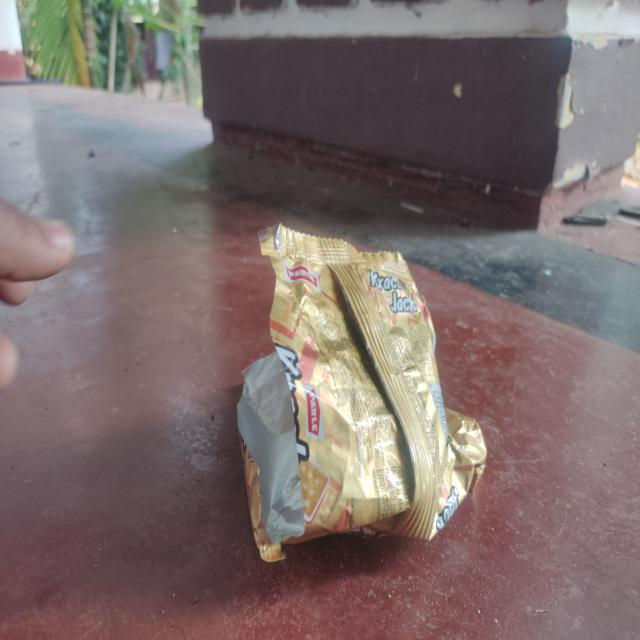plastic: (236, 222, 488, 560)
